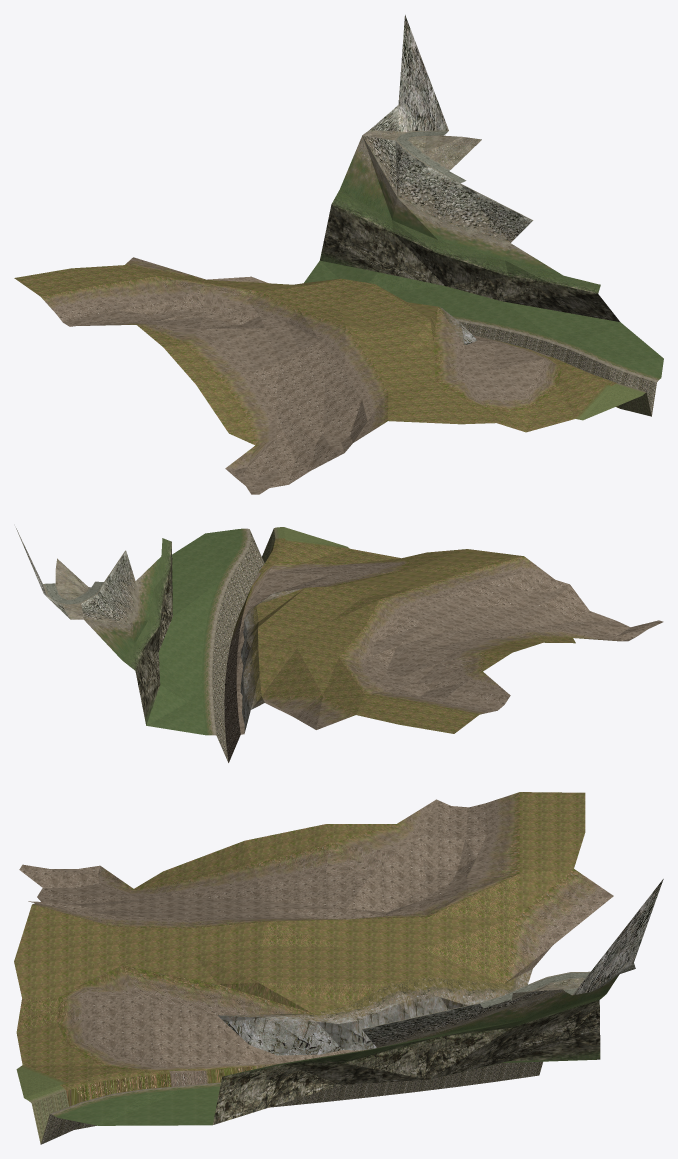
Rendered from cs_landbit_41.obj.
The picture shows the model from 3 angles, top to bottom: view 1: azimuth 30°, elevation 25°; view 2: azimuth 150°, elevation 25°; view 3: azimuth 270°, elevation 25°; orthographic projection. The views are drawn at different scales.
Visible parts, largest first — view 1: cs_landbit_41; view 2: cs_landbit_41; view 3: cs_landbit_41.
Part boxes in pixels (x1=…): cs_landbit_41: x1=14, y1=15, x2=663, y2=494; cs_landbit_41: x1=16, y1=527, x2=663, y2=762; cs_landbit_41: x1=14, y1=792, x2=663, y2=1144.
Bounding box in the file's own units: 252 × 128 × 251.
Materials: 14 (14 with a texture image).
